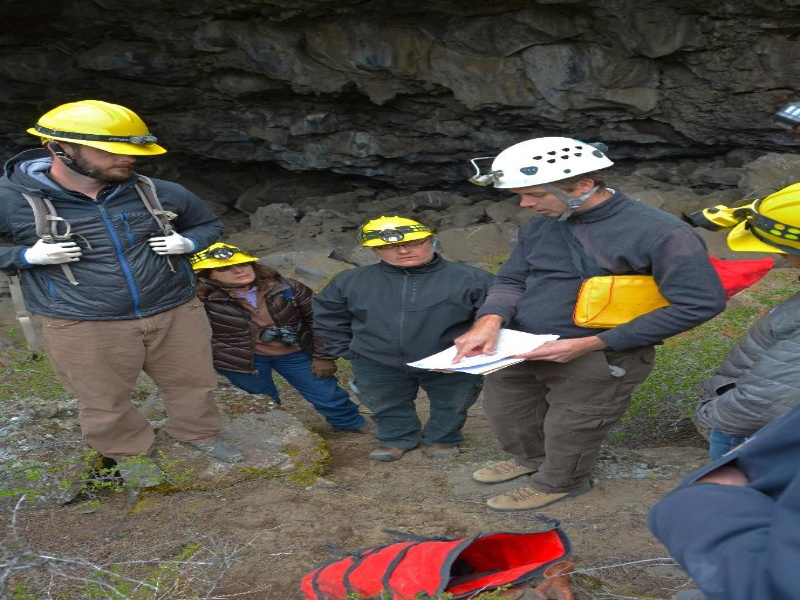Baret: (30, 99, 169, 156), (493, 137, 614, 184), (363, 217, 435, 247)
